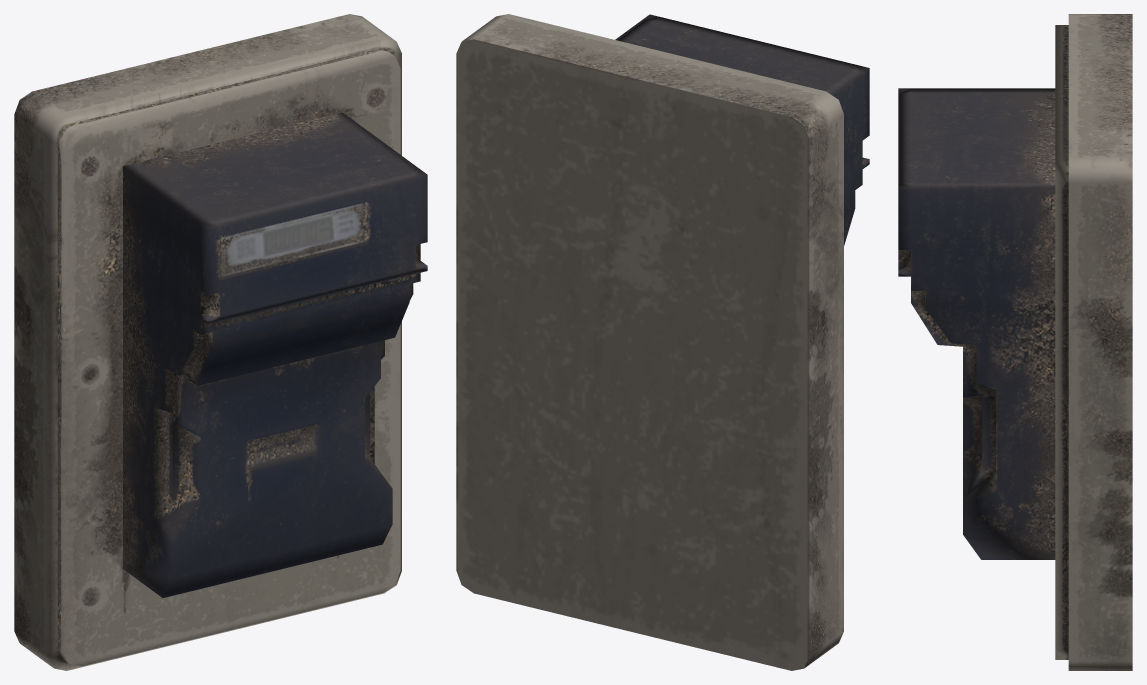
Rendered from MeterEquipment_A.fbx.
3 views of the same model, side by side, from view 1: azimuth 30°, elevation 25°; view 2: azimuth 150°, elevation 25°; view 3: azimuth 270°, elevation 25° (orthographic). The views are drawn at different scales.
Parts seen in each view (by area): view 1: MeterEquipment_A; view 2: MeterEquipment_A; view 3: MeterEquipment_A.
Part boxes in pixels (x1,y1,x2,y2): MeterEquipment_A: (14,14,427,670); MeterEquipment_A: (456,14,869,670); MeterEquipment_A: (898,14,1132,670).
Size of the model in its own units: 20 by 30 by 12.44.
Materials: 1 (1 with a texture image).
